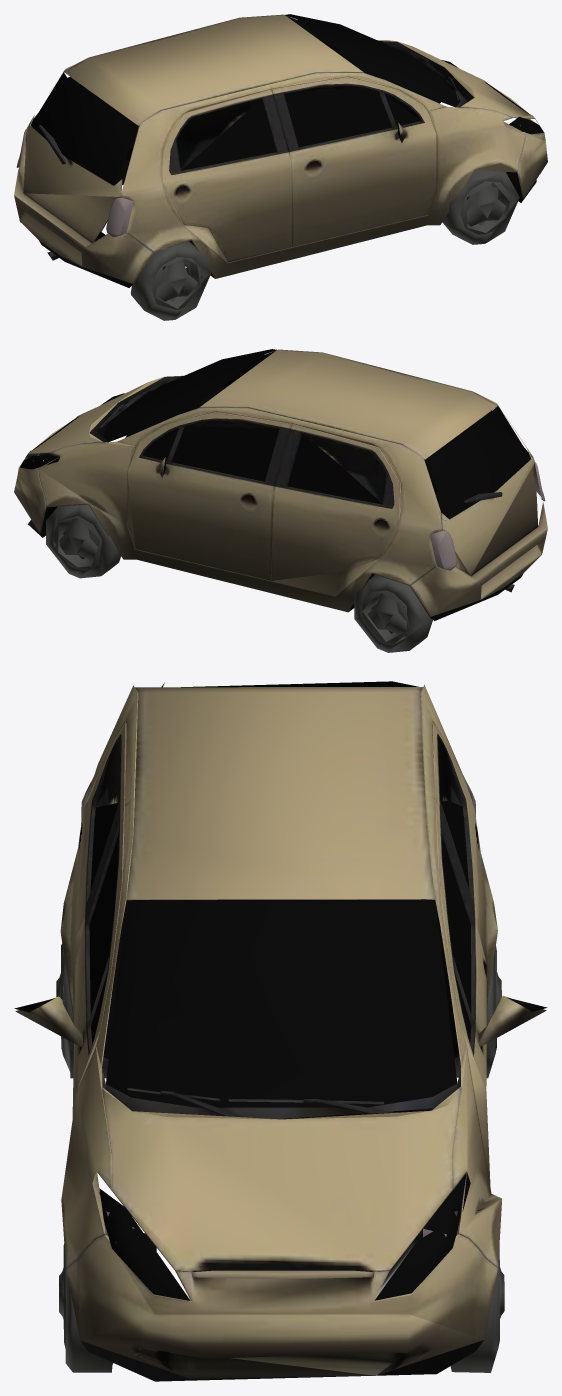
Rendered from pc-compact-beige.lod1.glb.
3 views of the same model, one above another, from view 1: azimuth 30°, elevation 25°; view 2: azimuth 150°, elevation 25°; view 3: azimuth 270°, elevation 25° (orthographic). The views are drawn at different scales.
Visible parts, largest first — view 1: Compact Body_Body_0, Wheel_C_Wheel_0; view 2: Compact Body_Body_0, Wheel_C_Wheel_0; view 3: Compact Body_Body_0, Wheel_C_Wheel_0.
Part boxes in pixels (<box>): Compact Body_Body_0: <box>14,14,547,287</box>; Wheel_C_Wheel_0: <box>16,14,543,320</box>; Compact Body_Body_0: <box>14,349,547,620</box>; Wheel_C_Wheel_0: <box>20,349,545,652</box>; Compact Body_Body_0: <box>14,682,547,1381</box>; Wheel_C_Wheel_0: <box>56,681,504,1372</box>.
Bounding box in the file's own units: 3.2 × 1.27 × 1.6.
Materials: 2 (1 with a texture image).
